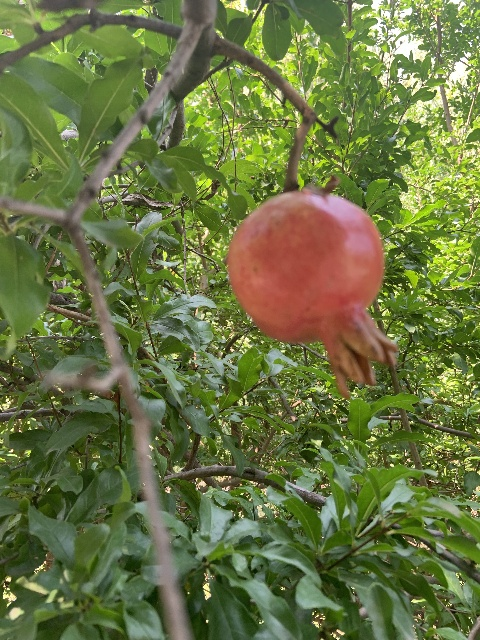ripe: (226, 192, 399, 399)
